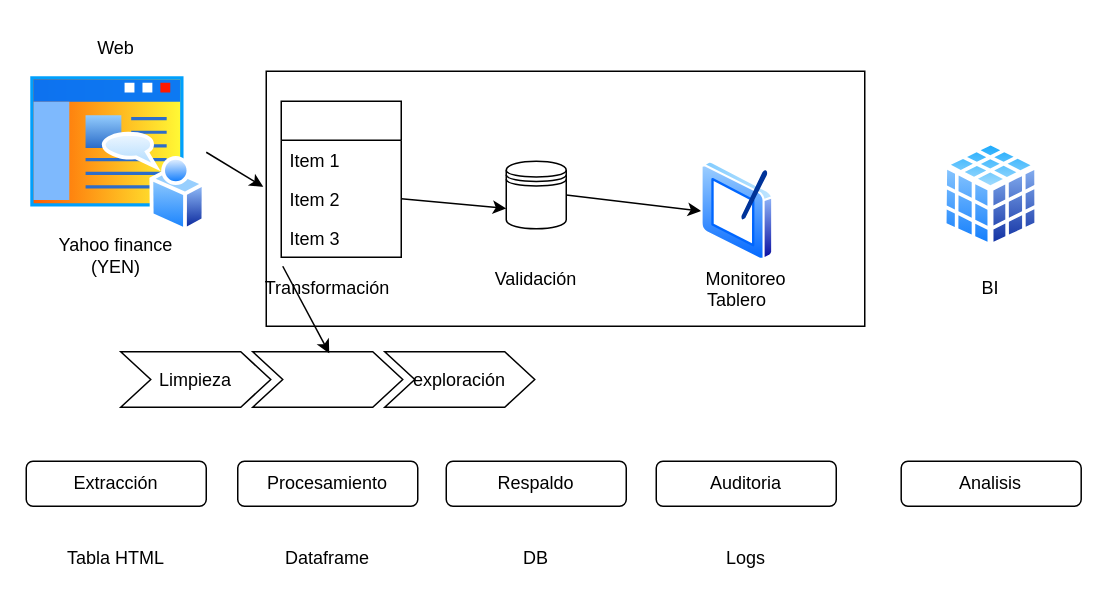
This 1109x606 diagram has some shape labels left out. Here are the shapes that lost their labels. From the top down, the box of each, then its label:
(280, 100, 401, 257): List
(251, 350, 403, 407): Enriquecimiento
